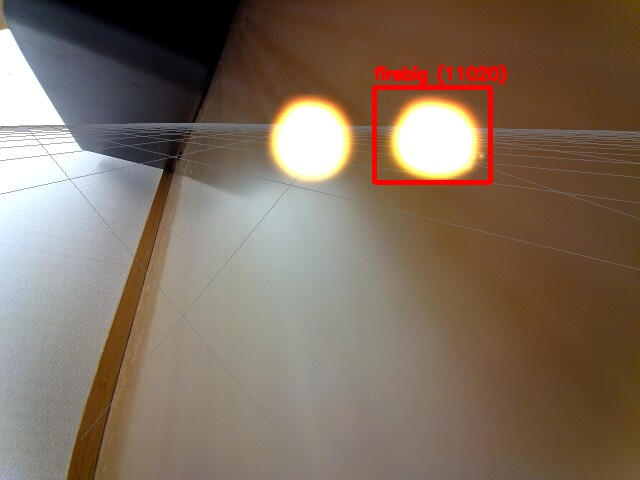firebig: (374, 87, 490, 182)
